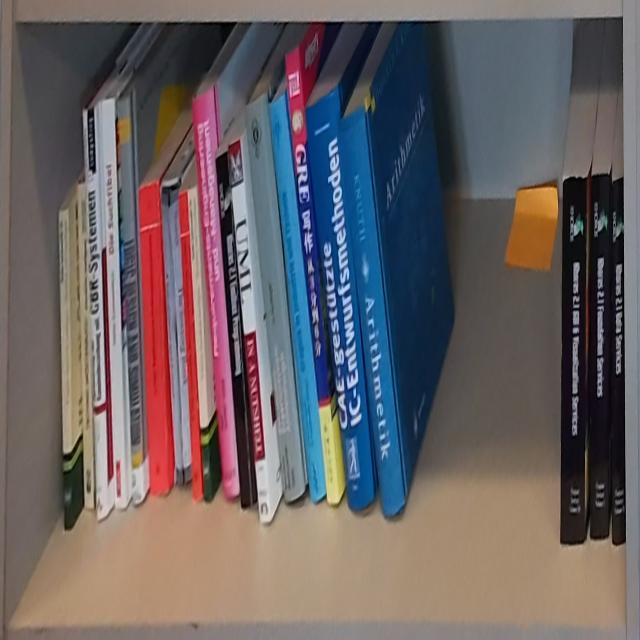Book Spine: (305, 89, 375, 515), (339, 112, 406, 518), (284, 47, 340, 506), (245, 90, 306, 502), (270, 90, 326, 505), (191, 88, 240, 501), (229, 139, 272, 525), (216, 151, 254, 511), (99, 98, 129, 510), (117, 95, 145, 502), (82, 106, 109, 521), (560, 177, 589, 543), (139, 183, 171, 493), (589, 174, 609, 540), (188, 183, 211, 498), (161, 184, 184, 487), (171, 187, 193, 486), (76, 179, 95, 514), (181, 189, 201, 501), (58, 206, 75, 532), (612, 179, 627, 545)
